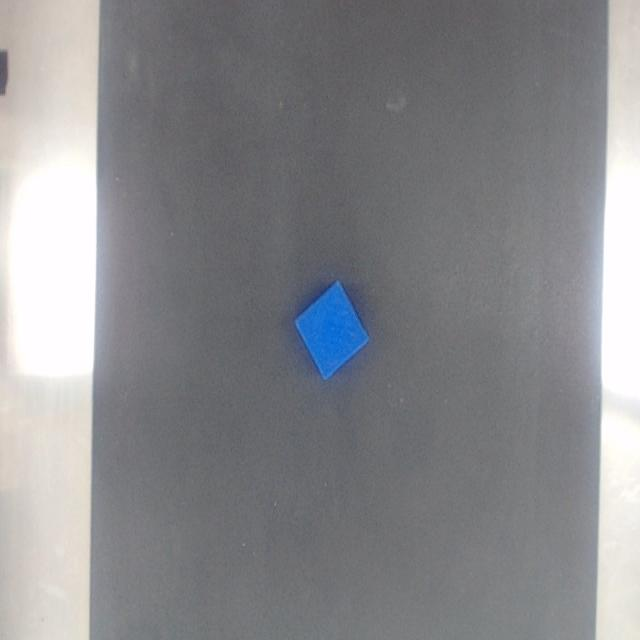Azul: (295, 281, 368, 380)
